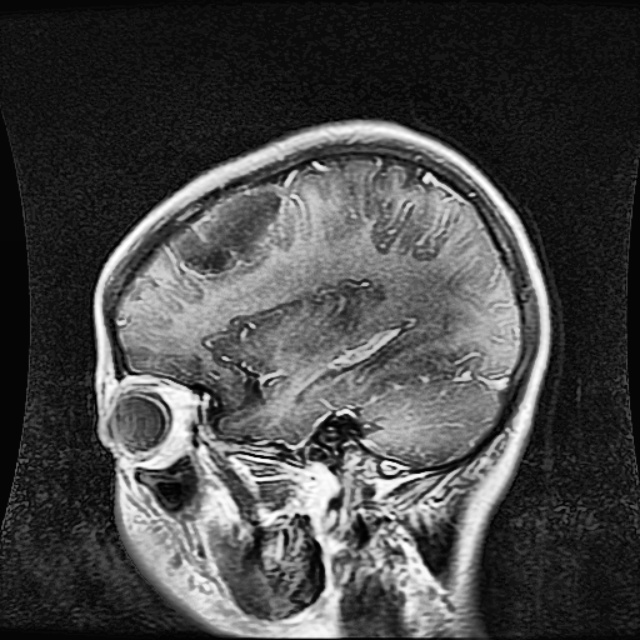Meningioma: (168, 187, 282, 274)
